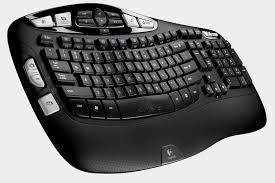keyboard: (8, 8, 270, 172)
